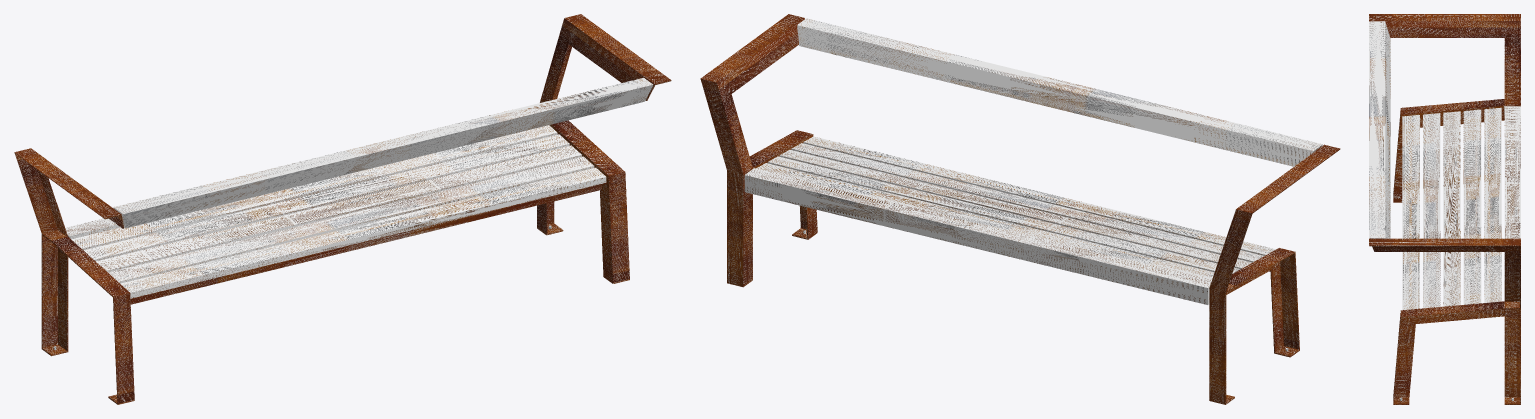
3 views of the same model, side by side, from view 1: azimuth 30°, elevation 25°; view 2: azimuth 150°, elevation 25°; view 3: azimuth 270°, elevation 25° (orthographic). The views are drawn at different scales.
Parts seen in each view (by area): view 1: mesh14_mesh14-geometry, mesh11_mesh11-geometry, mesh8_mesh8-geometry, mesh4_mesh4-geometry, mesh5_mesh5-geometry, mesh2_mesh2-geometry, mesh3_mesh3-geometry, mesh6_mesh6-geometry, mesh1_mesh1-geometry, mesh7_mesh7-geometry; view 2: mesh14_mesh14-geometry, mesh7_mesh7-geometry, mesh8_mesh8-geometry, mesh11_mesh11-geometry, mesh5_mesh5-geometry, mesh2_mesh2-geometry, mesh3_mesh3-geometry, mesh4_mesh4-geometry, mesh6_mesh6-geometry; view 3: mesh8_mesh8-geometry, mesh11_mesh11-geometry, mesh14_mesh14-geometry, mesh5_mesh5-geometry, mesh2_mesh2-geometry, mesh3_mesh3-geometry, mesh6_mesh6-geometry, mesh4_mesh4-geometry, mesh7_mesh7-geometry.
Boxes of the visible parts, x1=… form: mesh14_mesh14-geometry: x1=113, y1=77, x2=653, y2=228; mesh11_mesh11-geometry: x1=14, y1=148, x2=134, y2=404; mesh8_mesh8-geometry: x1=537, y1=14, x2=671, y2=283; mesh4_mesh4-geometry: x1=120, y1=167, x2=606, y2=298; mesh5_mesh5-geometry: x1=84, y1=134, x2=569, y2=261; mesh2_mesh2-geometry: x1=96, y1=145, x2=581, y2=272; mesh3_mesh3-geometry: x1=108, y1=156, x2=594, y2=283; mesh6_mesh6-geometry: x1=71, y1=125, x2=557, y2=250; mesh1_mesh1-geometry: x1=130, y1=182, x2=606, y2=304; mesh7_mesh7-geometry: x1=65, y1=218, x2=120, y2=239; mesh14_mesh14-geometry: x1=797, y1=18, x2=1322, y2=166; mesh7_mesh7-geometry: x1=744, y1=168, x2=1211, y2=304; mesh8_mesh8-geometry: x1=700, y1=14, x2=817, y2=287; mesh11_mesh11-geometry: x1=1209, y1=144, x2=1340, y2=404; mesh5_mesh5-geometry: x1=767, y1=156, x2=1240, y2=273; mesh2_mesh2-geometry: x1=779, y1=149, x2=1251, y2=269; mesh3_mesh3-geometry: x1=791, y1=143, x2=1263, y2=262; mesh4_mesh4-geometry: x1=803, y1=136, x2=1275, y2=255; mesh6_mesh6-geometry: x1=756, y1=163, x2=1214, y2=279; mesh8_mesh8-geometry: x1=1369, y1=238, x2=1520, y2=404; mesh11_mesh11-geometry: x1=1369, y1=14, x2=1520, y2=202; mesh14_mesh14-geometry: x1=1369, y1=21, x2=1390, y2=238; mesh5_mesh5-geometry: x1=1463, y1=109, x2=1481, y2=304; mesh2_mesh2-geometry: x1=1443, y1=111, x2=1460, y2=306; mesh3_mesh3-geometry: x1=1423, y1=113, x2=1440, y2=308; mesh6_mesh6-geometry: x1=1484, y1=107, x2=1501, y2=302; mesh4_mesh4-geometry: x1=1402, y1=115, x2=1419, y2=310; mesh7_mesh7-geometry: x1=1504, y1=106, x2=1520, y2=238.
Size of the model in its own units: 0.9144 by 0.3159 by 0.2534.
